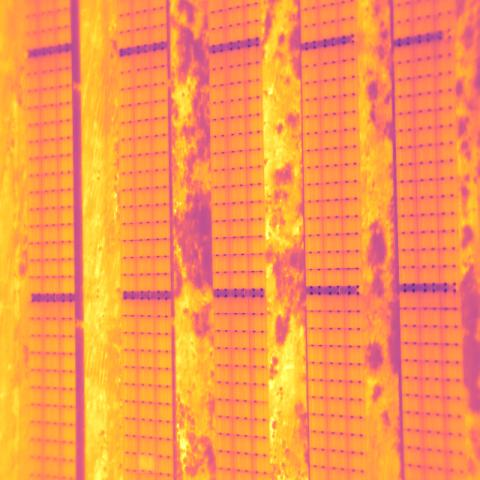fault: (138, 453, 157, 473)
